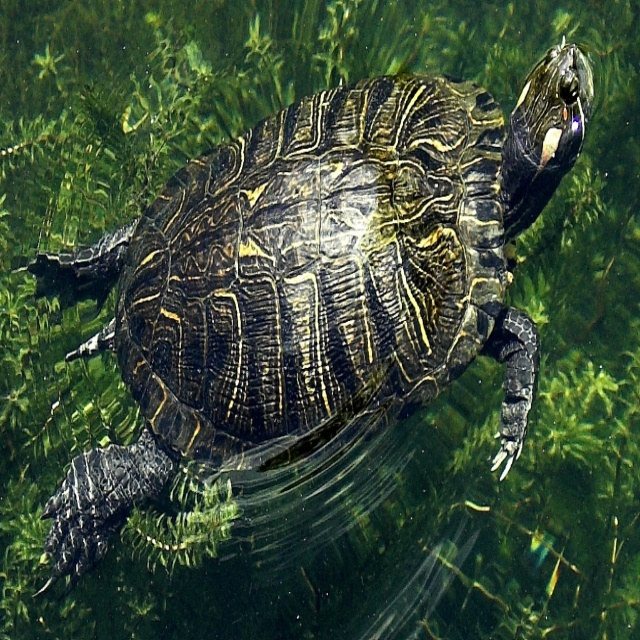Sea turtle: (28, 36, 594, 603)
